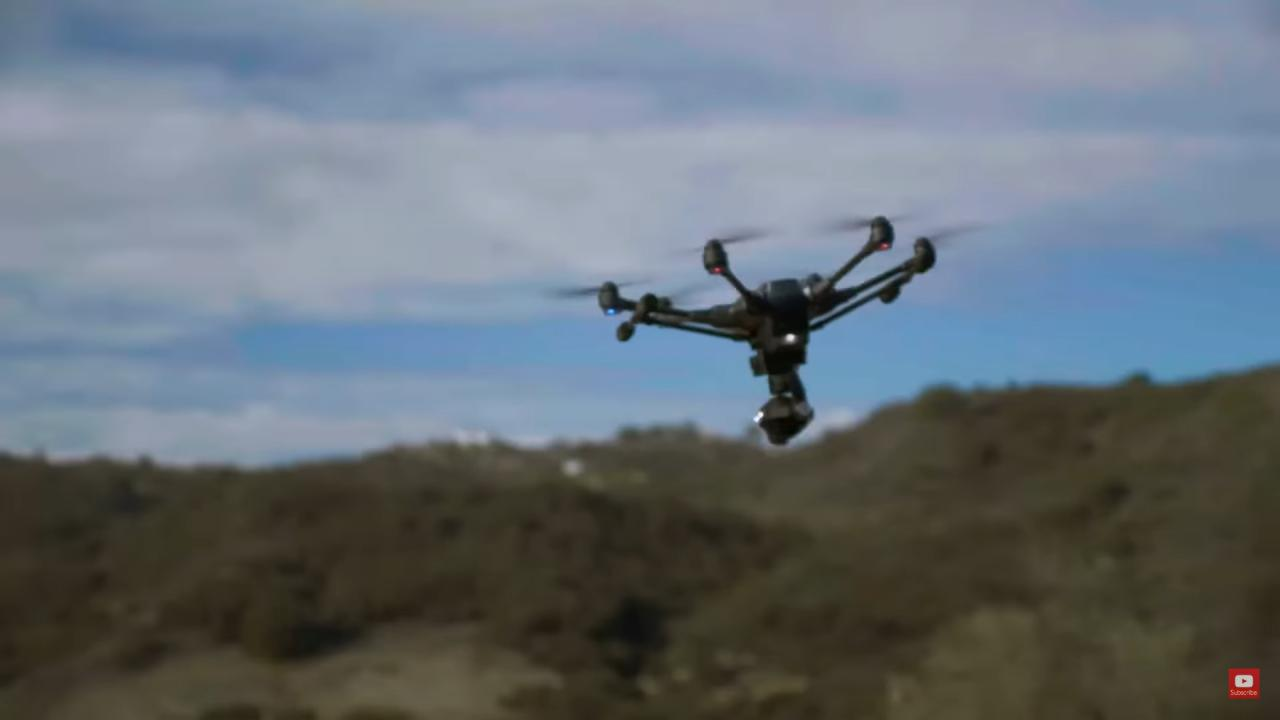Drone: (531, 179, 1009, 458)
